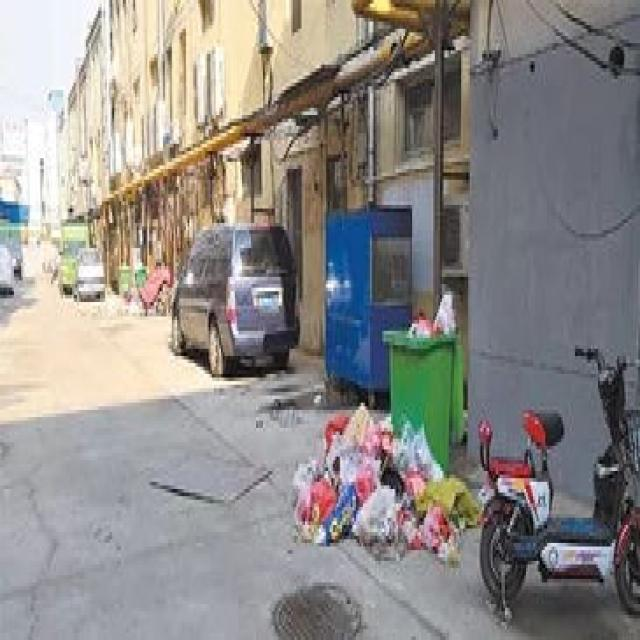garbage: (290, 395, 480, 561)
overflow: (381, 288, 461, 471)
